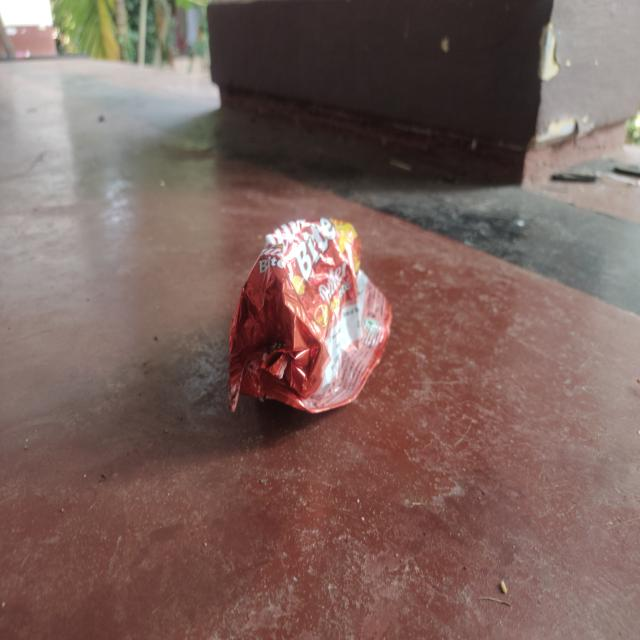plastic: (225, 214, 396, 422)
